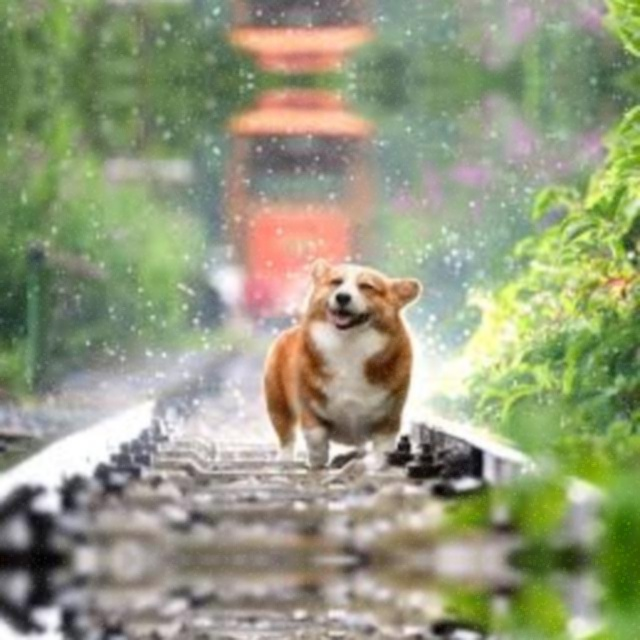dog: (253, 248, 427, 471)
